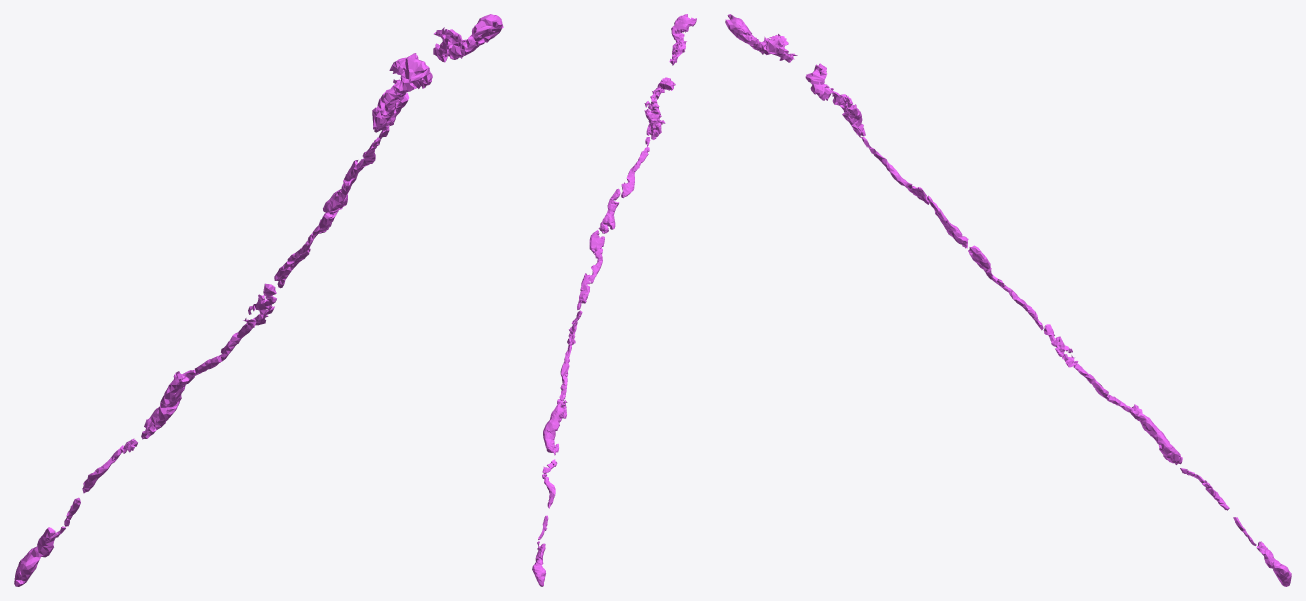
Rendered from VFB_jrmc2hoa.glb.
3 views of the same model, side by side, from view 1: azimuth 30°, elevation 25°; view 2: azimuth 150°, elevation 25°; view 3: azimuth 270°, elevation 25° (orthographic). The views are drawn at different scales.
Visible parts, largest first — view 1: VFB_jrmc2hoa; view 2: VFB_jrmc2hoa; view 3: VFB_jrmc2hoa.
Part boxes in pixels (<box>): VFB_jrmc2hoa: <box>14,14,503,586</box>; VFB_jrmc2hoa: <box>532,14,696,586</box>; VFB_jrmc2hoa: <box>725,14,1291,586</box>.
Size of the model in its own units: 0.00296 by 0.02 by 0.017.
